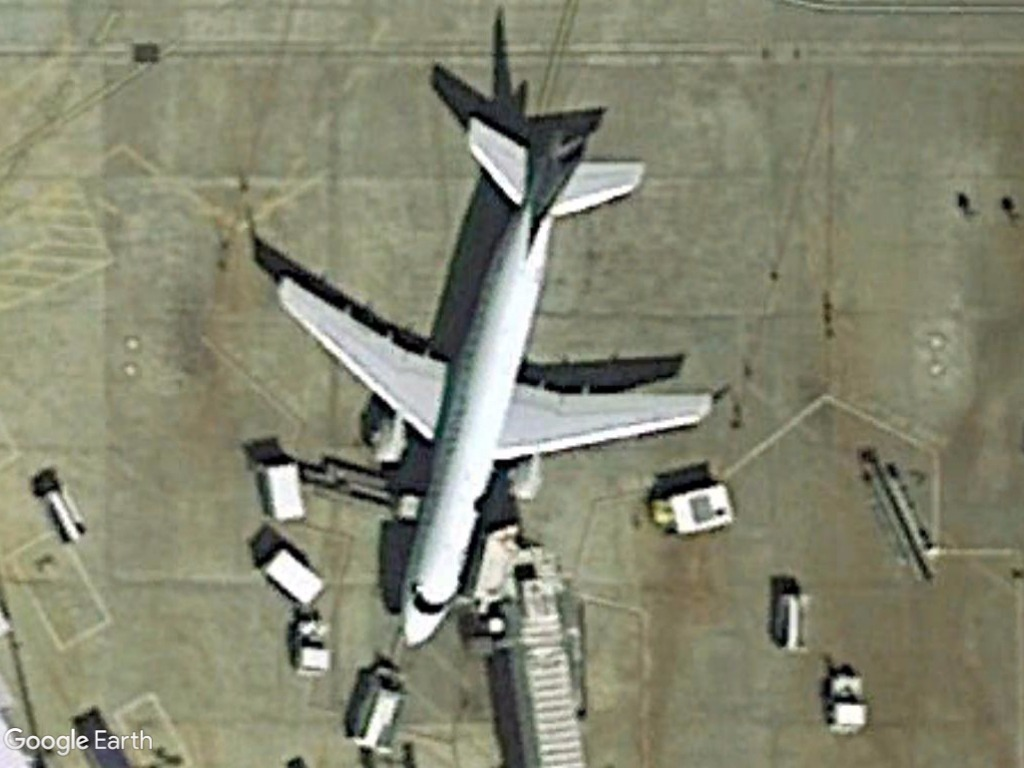airliner: (263, 109, 732, 653)
